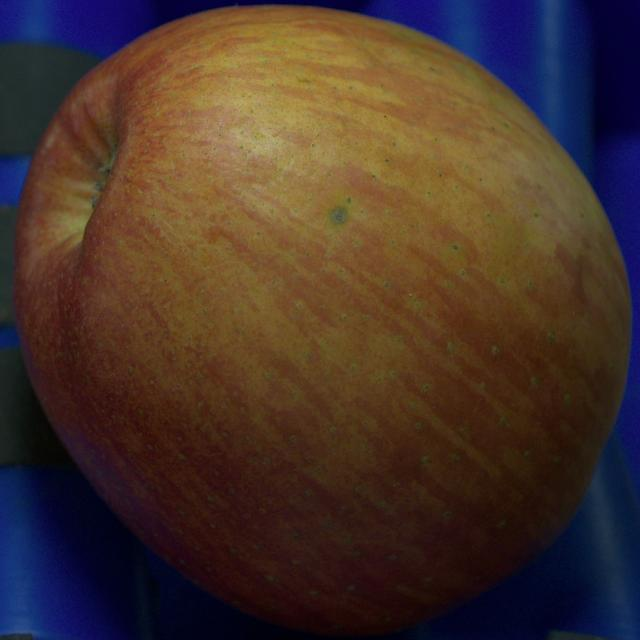apple: (14, 6, 631, 635)
pest: (329, 206, 348, 224)
